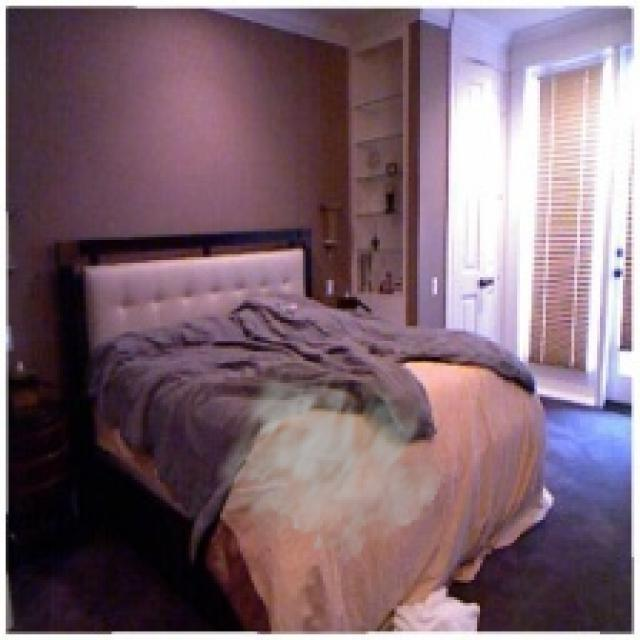Smoke: (206, 337, 457, 569)
